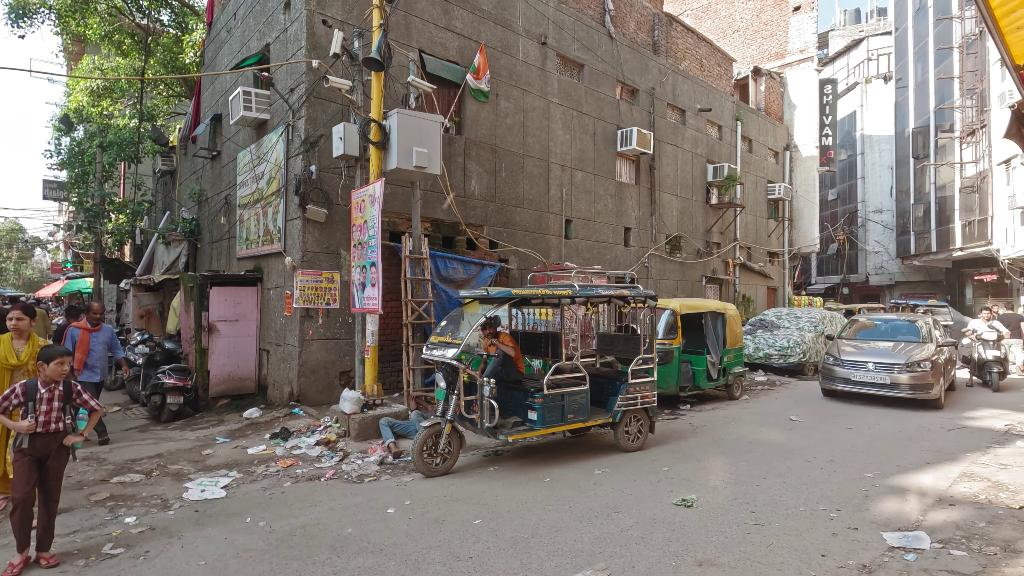garbage: (879, 530, 931, 552), (338, 387, 364, 414), (298, 432, 325, 445), (269, 426, 291, 440), (242, 407, 262, 421), (248, 444, 267, 454)
